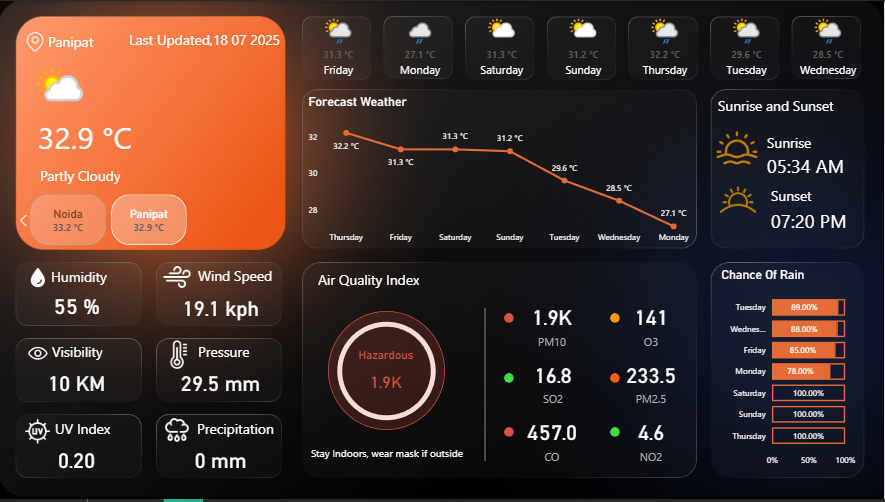

This screenshot's page, from the dashboard's own definition file:
{"tool":"powerbi","page":{"name":"Page 1","canvas":[1280,720],"ordinal":0},"visuals":[{"type":"donutChart","fields":{"Y":["Sum(Current.current.air_quality.pm10)","_Measures.Left_Value_PM10"]},"box":[462.5,440.3,195.2,188],"z":0},{"type":"shape","box":[475.5,447.6,169.2,172],"z":1000},{"type":"advancedSlicerVisual","fields":{"Values":["Location.location.name"]},"box":[19.8,275.2,393.7,83.6],"z":2000},{"type":"cardVisual","fields":{"Data":["Min(Current.current.condition.icon)"]},"box":[31.9,69.9,145.9,117.1],"z":3000},{"type":"shape","box":[56.4,163.4,164.8,63.6],"z":4000},{"type":"shape","box":[59.3,235.7,198.1,30.4],"z":5000},{"type":"shape","box":[70.8,41.9,107,30.4],"z":6000},{"type":"shape","box":[170.9,39.6,235.7,30.1],"z":7000},{"type":"image","box":[33.3,39,37.6,39],"z":8000},{"type":"shape","box":[75.2,381.7,107,30.4],"z":9000},{"type":"shape","box":[287.7,380.2,128.7,30.4],"z":10000},{"type":"shape","box":[76.6,490.1,107,30.4],"z":11000},{"type":"shape","box":[287.7,490.1,107,30.4],"z":12000},{"type":"shape","box":[286.3,601.4,128.7,30.4],"z":13000},{"type":"shape","box":[81,601.4,107,30.4],"z":14000},{"type":"image","box":[31.8,597.1,47.7,49.2],"z":15000},{"type":"image","box":[36.1,378.8,40.5,41.9],"z":16000},{"type":"image","box":[34.7,485.8,43.4,47.7],"z":17000},{"type":"image","box":[231.3,594.2,52,52],"z":18000},{"type":"image","box":[231.3,485.8,56.4,50.6],"z":19000},{"type":"image","box":[231.3,373,52,52],"z":20000},{"type":"card","fields":{"Values":["_Measures.Humidity"]},"box":[36.1,409.2,151.8,60.7],"z":21000},{"type":"card","fields":{"Values":["_Measures.Wind_Speed"]},"box":[243.7,411.4,151.9,61.7],"z":22000},{"type":"card","fields":{"Values":["_Measures.Pressure"]},"box":[243.7,520.5,151.9,60.1],"z":23000},{"type":"card","fields":{"Values":["_Measures.Visiblity"]},"box":[36.4,520.5,151.9,60.1],"z":24000},{"type":"card","fields":{"Values":["Sum(Current.current.uv)"]},"box":[36.4,631.3,151.9,60.1],"z":25000},{"type":"card","fields":{"Values":["_Measures.Precipition"]},"box":[243.7,631.3,151.9,60.1],"z":26000},{"type":"advancedSlicerVisual","fields":{"Values":["Forecast_Day.Day_Name"]},"box":[430.2,13.7,830,114],"z":27000},{"type":"lineChart","title":"Forecast Weather","fields":{"Y":["Avg(Forecast_Day.forecast.forecastday.day.avgtemp_c)"],"Category":["Forecast_Day.Day_Name"]},"box":[442.4,134.5,569.6,225.5],"z":28000},{"type":"shape","box":[1039.8,133.8,194.6,30.4],"z":29000},{"type":"shape","box":[1109.7,205.2,164.2,63.8],"z":30000},{"type":"shape","box":[1115.8,284.3,164.2,63.8],"z":31000},{"type":"image","box":[1026.5,247.2,83.9,79.5],"z":32000},{"type":"image","box":[1029.4,177.8,75.2,69.4],"z":33000},{"type":"shape","box":[1109.7,188.5,127.7,30.4],"z":34000},{"type":"shape","box":[1115.8,264.5,127.7,30.4],"z":35000},{"type":"hundredPercentStackedBarChart","title":"Chance Of Rain","fields":{"Y":["Sum(Forecast_Day.forecast.forecastday.day.daily_chance_of_rain)","_Measures.Left_Value_Rain"],"Category":["Forecast_Day.Day_Name"]},"box":[1039.5,384.6,203.9,297.8],"z":36000},{"type":"shape","box":[461.2,386,195.2,30.4],"z":37000},{"type":"card","fields":{"Values":["Sum(Current.current.air_quality.o3)"]},"box":[865.6,428,153.3,78.1],"z":38000},{"type":"card","fields":{"Values":["Sum(Current.current.air_quality.pm2_5)"]},"box":[865.6,506,153.3,88.2],"z":39000},{"type":"card","fields":{"Values":["Sum(Current.current.air_quality.no2)"]},"box":[865.6,594.2,153.3,78.1],"z":40000},{"type":"card","fields":{"Values":["Sum(Current.current.air_quality.so2)"]},"box":[723.8,506,153.3,88.2],"z":41000},{"type":"card","fields":{"Values":["Sum(Current.current.air_quality.pm10)"]},"box":[722.3,428,153.3,78.1],"z":42000},{"type":"card","fields":{"Values":["Sum(Current.current.air_quality.co)"]},"box":[722.3,594.2,153.3,78.1],"z":43000},{"type":"shape","box":[729.6,451.1,14.5,14.5],"z":44000},{"type":"shape","box":[882.9,615.9,14.5,14.5],"z":45000},{"type":"shape","box":[882.9,537.8,14.5,14.5],"z":46000},{"type":"shape","box":[882.9,451.1,14.5,14.5],"z":47000},{"type":"shape","box":[729.6,615.9,14.5,14.5],"z":48000},{"type":"shape","box":[729.6,537.8,14.5,14.5],"z":49000},{"type":"shape","box":[689.6,443.9,26,221.2],"z":50000},{"type":"card","fields":{"Values":["Sum(Current.current.air_quality.pm10)"]},"box":[500.1,501.1,118.6,78.1],"z":51000},{"type":"shape","box":[451.1,634.7,253,37.6],"z":52000}]}

Visuals, with their boxes in screenshot pixels (x1, y1, x2, y2), scaled from the page's 1280x720 canvas onto the 885x502 screenshot:
donutChart - Sum(Current.current.air_quality.pm10) x _Measures.Left_Value_PM10: pyautogui.locateOnScreen(320, 307, 455, 438)
shape: pyautogui.locateOnScreen(329, 312, 446, 432)
advancedSlicerVisual - Location.location.name: pyautogui.locateOnScreen(14, 192, 286, 250)
cardVisual - Min(Current.current.condition.icon): pyautogui.locateOnScreen(22, 49, 123, 130)
shape: pyautogui.locateOnScreen(39, 114, 153, 158)
shape: pyautogui.locateOnScreen(41, 164, 178, 186)
shape: pyautogui.locateOnScreen(49, 29, 123, 50)
shape: pyautogui.locateOnScreen(118, 28, 281, 49)
image: pyautogui.locateOnScreen(23, 27, 49, 54)
shape: pyautogui.locateOnScreen(52, 266, 126, 287)
shape: pyautogui.locateOnScreen(199, 265, 288, 286)
shape: pyautogui.locateOnScreen(53, 342, 127, 363)
shape: pyautogui.locateOnScreen(199, 342, 273, 363)
shape: pyautogui.locateOnScreen(198, 419, 287, 441)
shape: pyautogui.locateOnScreen(56, 419, 130, 441)
image: pyautogui.locateOnScreen(22, 416, 55, 451)
image: pyautogui.locateOnScreen(25, 264, 53, 293)
image: pyautogui.locateOnScreen(24, 339, 54, 372)
image: pyautogui.locateOnScreen(160, 414, 196, 451)
image: pyautogui.locateOnScreen(160, 339, 199, 374)
image: pyautogui.locateOnScreen(160, 260, 196, 296)
card - _Measures.Humidity: pyautogui.locateOnScreen(25, 285, 130, 328)
card - _Measures.Wind_Speed: pyautogui.locateOnScreen(168, 287, 274, 330)
card - _Measures.Pressure: pyautogui.locateOnScreen(168, 363, 274, 405)
card - _Measures.Visiblity: pyautogui.locateOnScreen(25, 363, 130, 405)
card - Sum(Current.current.uv): pyautogui.locateOnScreen(25, 440, 130, 482)
card - _Measures.Precipition: pyautogui.locateOnScreen(168, 440, 274, 482)
advancedSlicerVisual - Forecast_Day.Day_Name: pyautogui.locateOnScreen(297, 10, 871, 89)
"Forecast Weather" lineChart: pyautogui.locateOnScreen(306, 94, 700, 251)
shape: pyautogui.locateOnScreen(719, 93, 853, 114)
shape: pyautogui.locateOnScreen(767, 143, 881, 188)
shape: pyautogui.locateOnScreen(771, 198, 884, 243)
image: pyautogui.locateOnScreen(710, 172, 768, 228)
image: pyautogui.locateOnScreen(712, 124, 764, 172)
shape: pyautogui.locateOnScreen(767, 131, 856, 153)
shape: pyautogui.locateOnScreen(771, 184, 860, 206)
"Chance Of Rain" hundredPercentStackedBarChart: pyautogui.locateOnScreen(719, 268, 860, 476)
shape: pyautogui.locateOnScreen(319, 269, 454, 290)
card - Sum(Current.current.air_quality.o3): pyautogui.locateOnScreen(598, 298, 704, 353)
card - Sum(Current.current.air_quality.pm2_5): pyautogui.locateOnScreen(598, 353, 704, 414)
card - Sum(Current.current.air_quality.no2): pyautogui.locateOnScreen(598, 414, 704, 469)
card - Sum(Current.current.air_quality.so2): pyautogui.locateOnScreen(500, 353, 606, 414)
card - Sum(Current.current.air_quality.pm10): pyautogui.locateOnScreen(499, 298, 605, 353)
card - Sum(Current.current.air_quality.co): pyautogui.locateOnScreen(499, 414, 605, 469)
shape: pyautogui.locateOnScreen(504, 315, 514, 325)
shape: pyautogui.locateOnScreen(610, 429, 620, 440)
shape: pyautogui.locateOnScreen(610, 375, 620, 385)
shape: pyautogui.locateOnScreen(610, 315, 620, 325)
shape: pyautogui.locateOnScreen(504, 429, 514, 440)
shape: pyautogui.locateOnScreen(504, 375, 514, 385)
shape: pyautogui.locateOnScreen(477, 309, 495, 464)
card - Sum(Current.current.air_quality.pm10): pyautogui.locateOnScreen(346, 349, 428, 404)
shape: pyautogui.locateOnScreen(312, 443, 487, 469)
